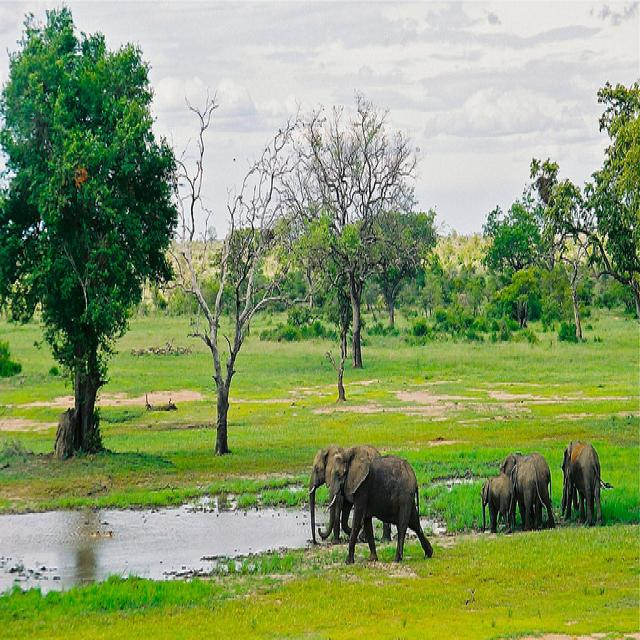Elephant: (308, 443, 433, 563), (499, 449, 555, 532), (560, 439, 613, 526), (480, 471, 514, 533)
